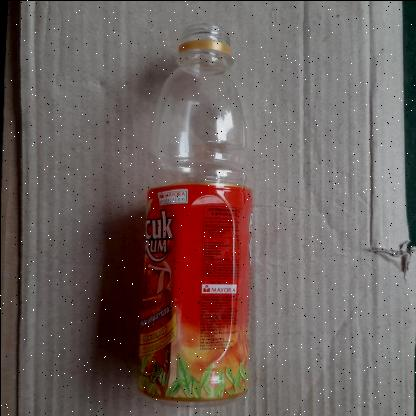Plastic Bottle: (134, 20, 254, 408)
